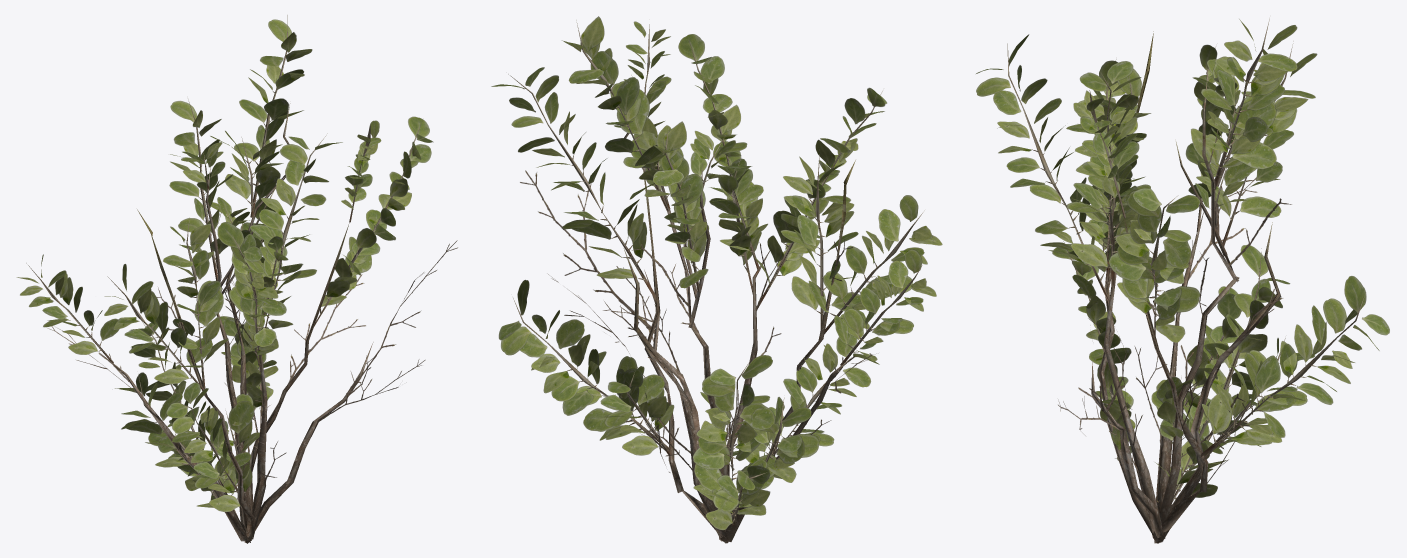
The model's file is nama_searsia_f.glb.
The picture shows the model from 3 angles, left to right: view 1: azimuth 30°, elevation 25°; view 2: azimuth 150°, elevation 25°; view 3: azimuth 270°, elevation 25°; orthographic projection. The views are drawn at different scales.
Visible parts, largest first — view 1: nama_searsia_f; view 2: nama_searsia_f; view 3: nama_searsia_f.
Boxes of the visible parts, bbox=[...] form: nama_searsia_f: bbox=[17, 15, 457, 543]; nama_searsia_f: bbox=[491, 16, 942, 543]; nama_searsia_f: bbox=[976, 18, 1389, 543].
Bounding box in the file's own units: 0.9207 × 1.03 × 0.6765.
3 materials, 3 textured.
